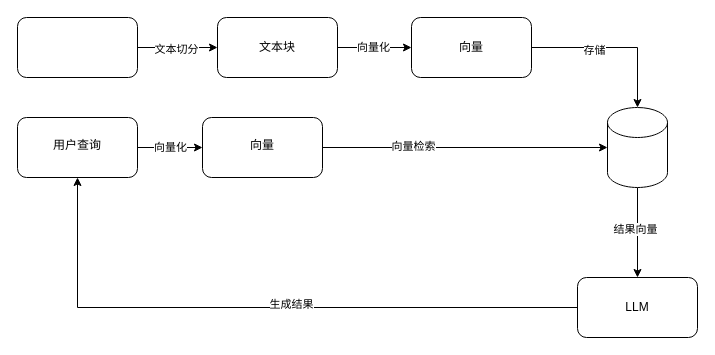
Image size: 715x355. Some labels were removed from this diagram. The shapes that lost their labels are listed below. From the top down, each one's centre as x and y in pixels, then its label:
At [77,47]: "外部数据源".
At [637,147]: "向量 数据库".
